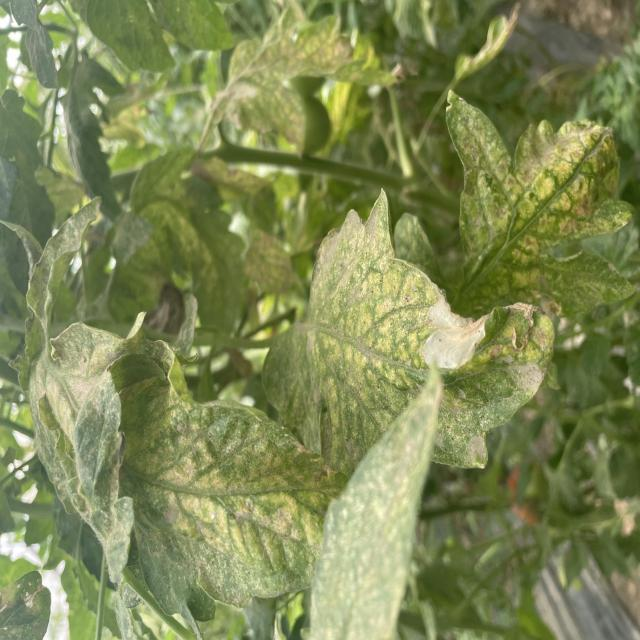Tuta absoluta: (412, 292, 493, 379)
